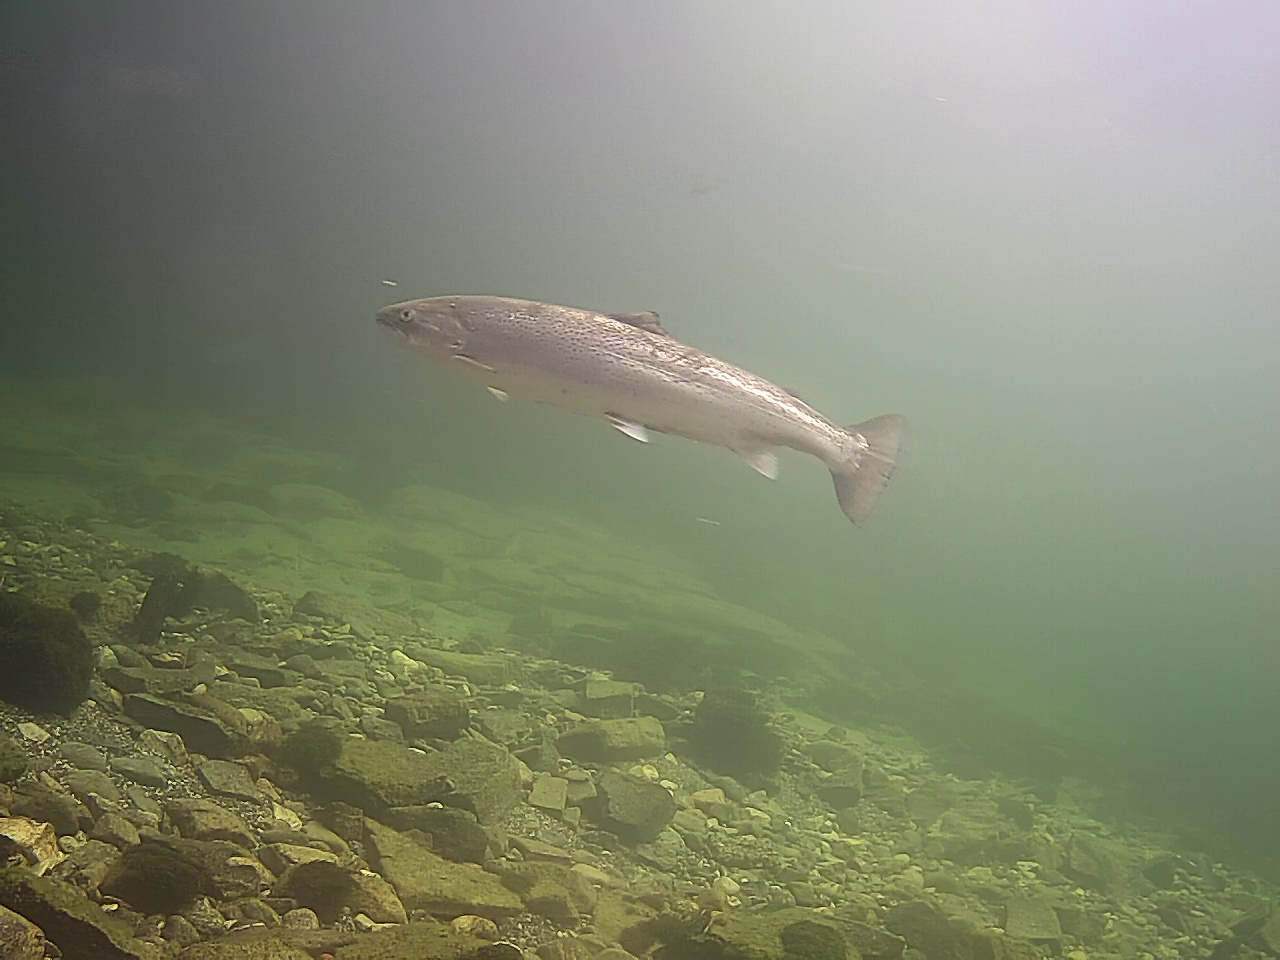salmon: (373, 293, 907, 528)
